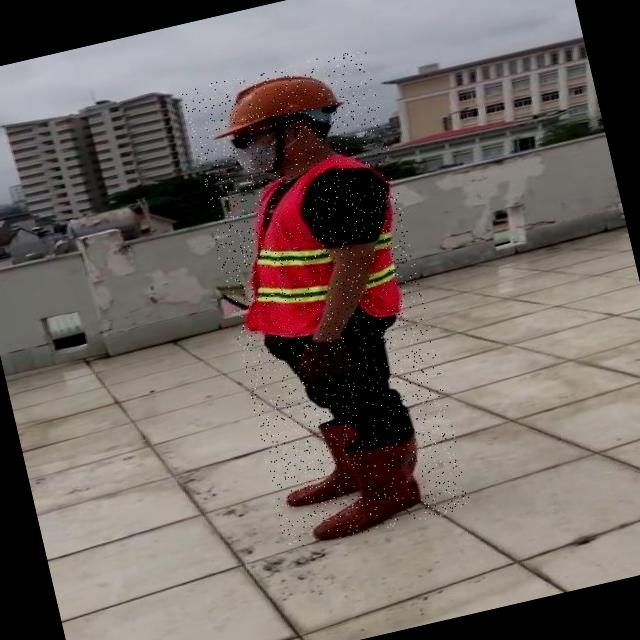boots: (300, 438, 432, 540), (277, 418, 369, 511)
gloves: (278, 307, 382, 403)
helmet: (205, 62, 348, 138)
vest: (219, 147, 420, 346)
